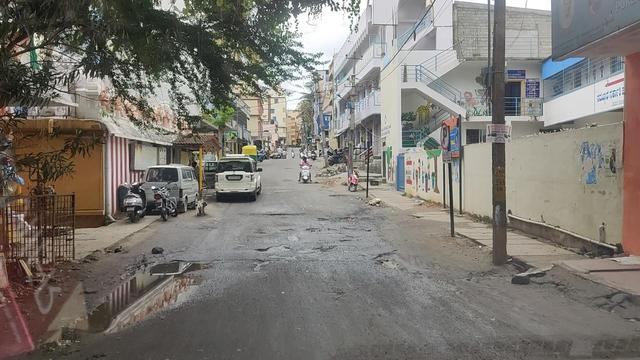LMV: (300, 156, 310, 182)
RoadDamages: (85, 252, 210, 331), (292, 241, 335, 257), (368, 246, 392, 268), (250, 208, 300, 217), (248, 253, 272, 270), (328, 212, 353, 223), (255, 241, 289, 249), (302, 220, 320, 232), (249, 226, 266, 236), (285, 230, 297, 240)
